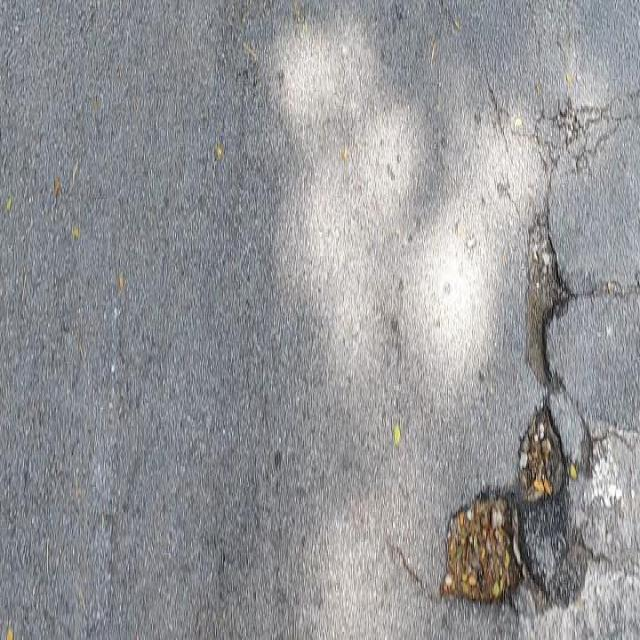potholes: (371, 38, 639, 640)
